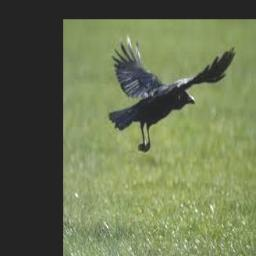Crow: (108, 30, 235, 152)
